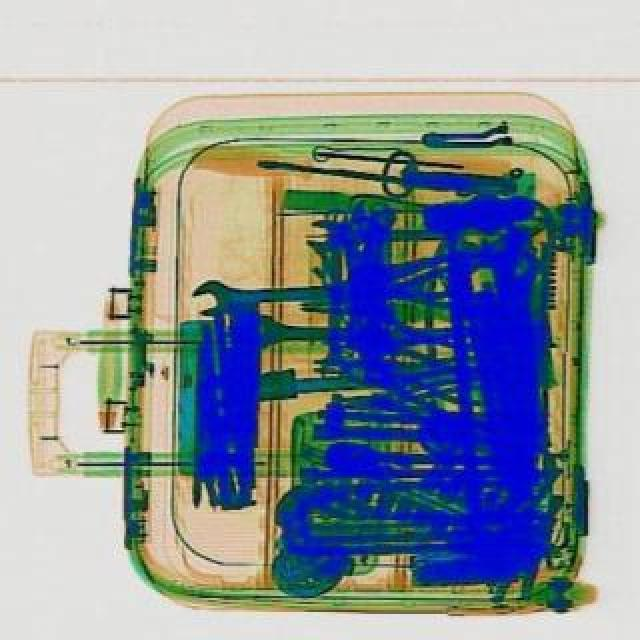scissors: (188, 272, 328, 316), (306, 218, 440, 252)
